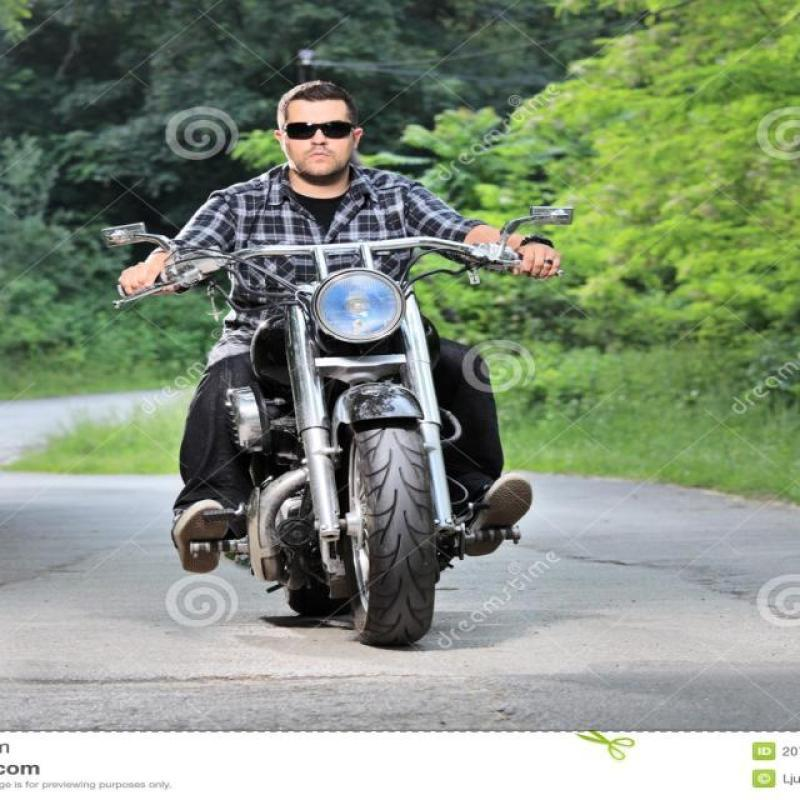nohelmet: (251, 72, 374, 198)
